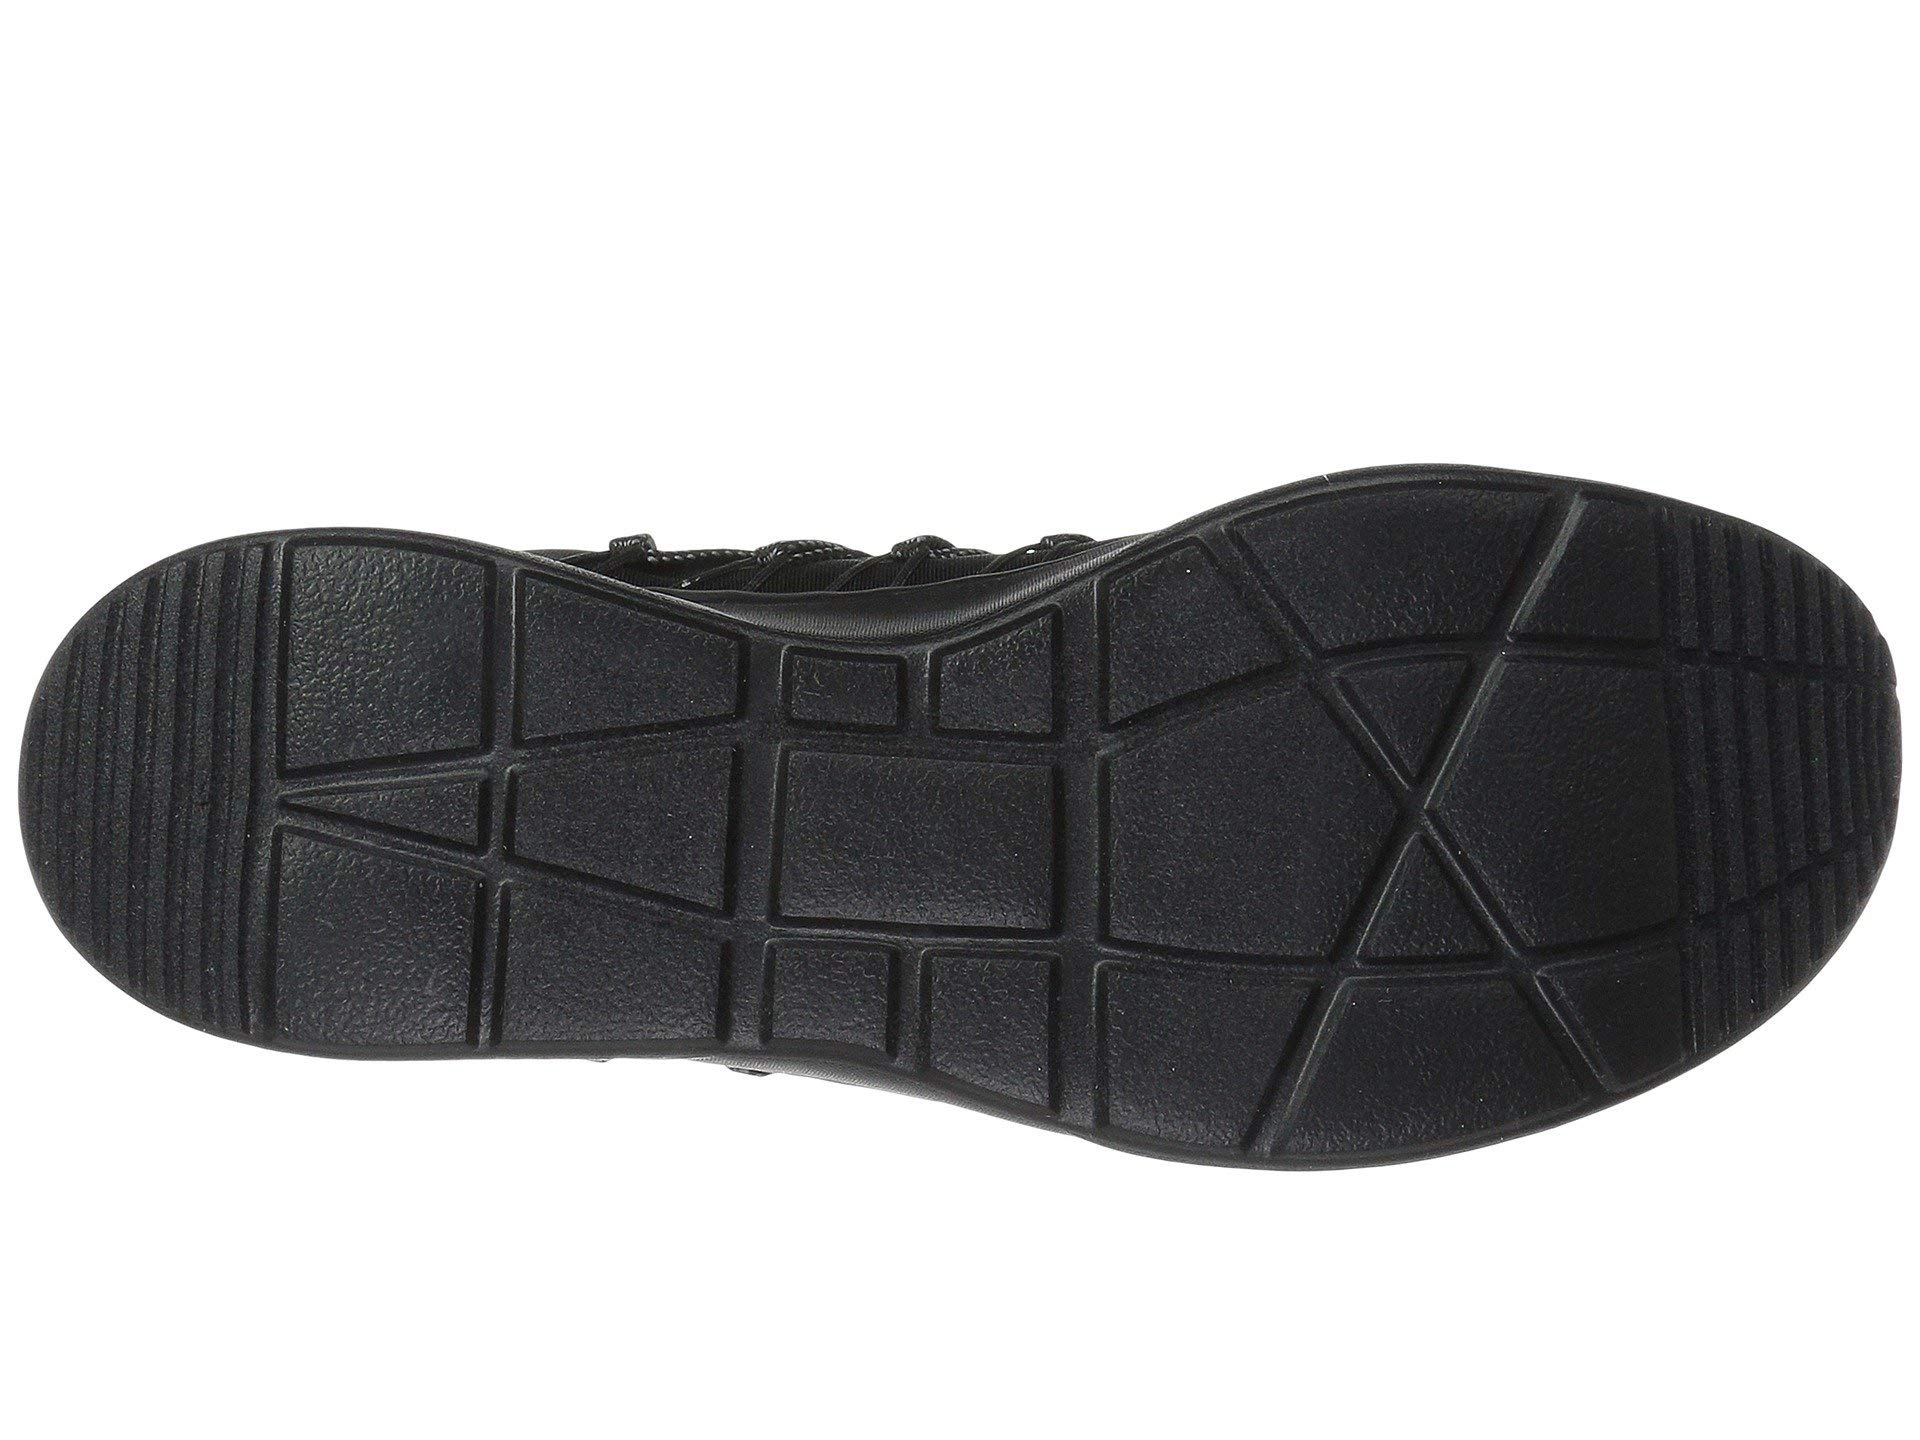line: (70, 634, 245, 964)
polygon: (1123, 528, 1708, 1091)
quad: (1123, 528, 1708, 1091), (287, 532, 519, 1039)
triangle: (1123, 528, 1708, 1091), (287, 532, 519, 1039)
